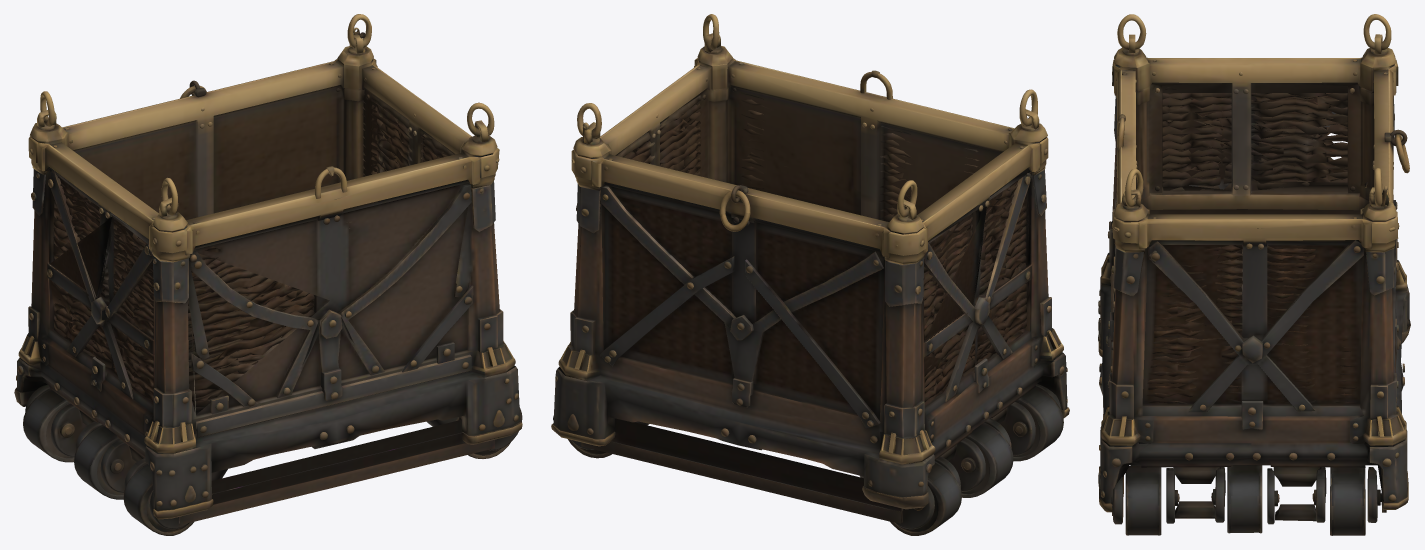
The model's file is SM_Basket_02_Gondola_Empty.glb.
3 views of the same model, side by side, from view 1: azimuth 30°, elevation 25°; view 2: azimuth 150°, elevation 25°; view 3: azimuth 270°, elevation 25° (orthographic).
Visible parts, largest first — view 1: tripo_node_b2891a63; view 2: tripo_node_b2891a63; view 3: tripo_node_b2891a63.
Boxes of the visible parts, x1,y1,x2,y2 form: tripo_node_b2891a63: (14, 14, 522, 535); tripo_node_b2891a63: (551, 14, 1069, 535); tripo_node_b2891a63: (1098, 14, 1410, 535).
Bounding box in the file's own units: 0.9995 × 0.897 × 0.7036.
Materials: 1 (1 with a texture image).
